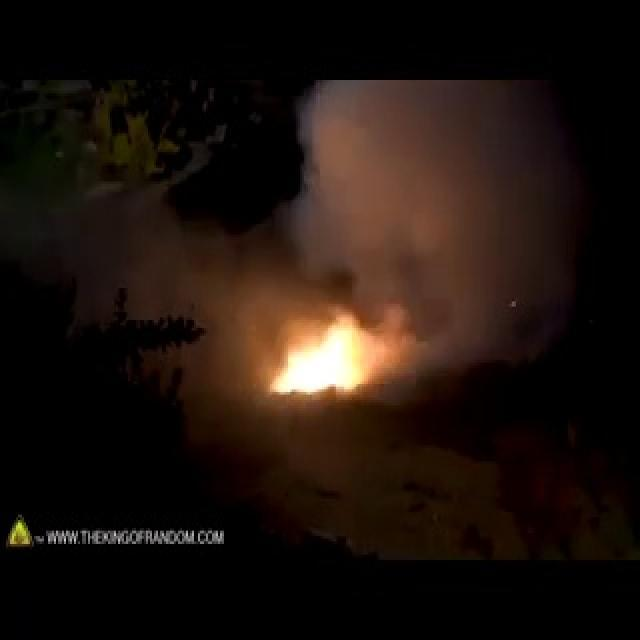Fire: (260, 262, 406, 398)
